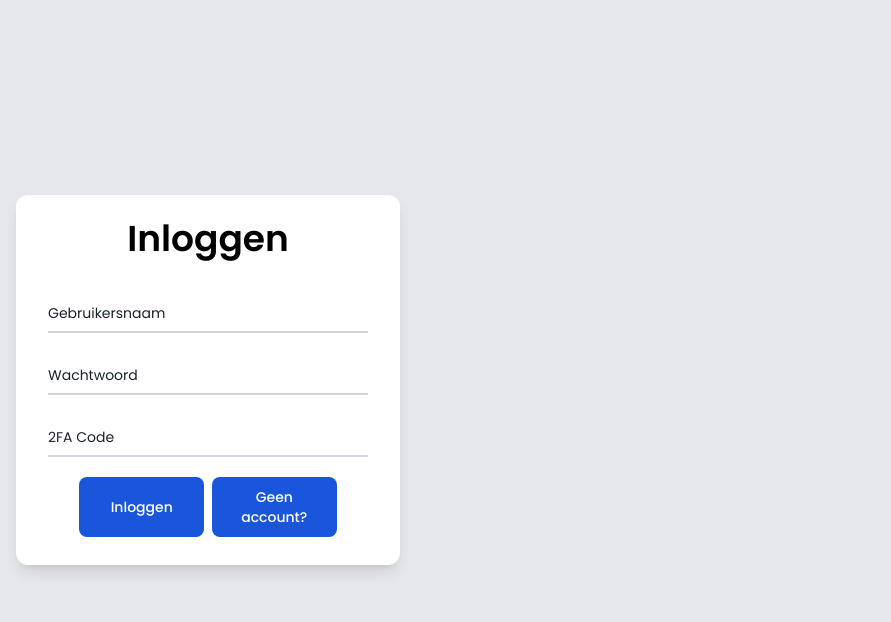
Test: Tests various pars of the register page › The page has a title, inputs and a button
This screenshot has width=891, height=622.
Expected: the heading "Inloggen" is shown, 127,213 -> 289,264
Step 1. Click the button with id "show-signin" → (275, 507), box 212,477 -> 337,537
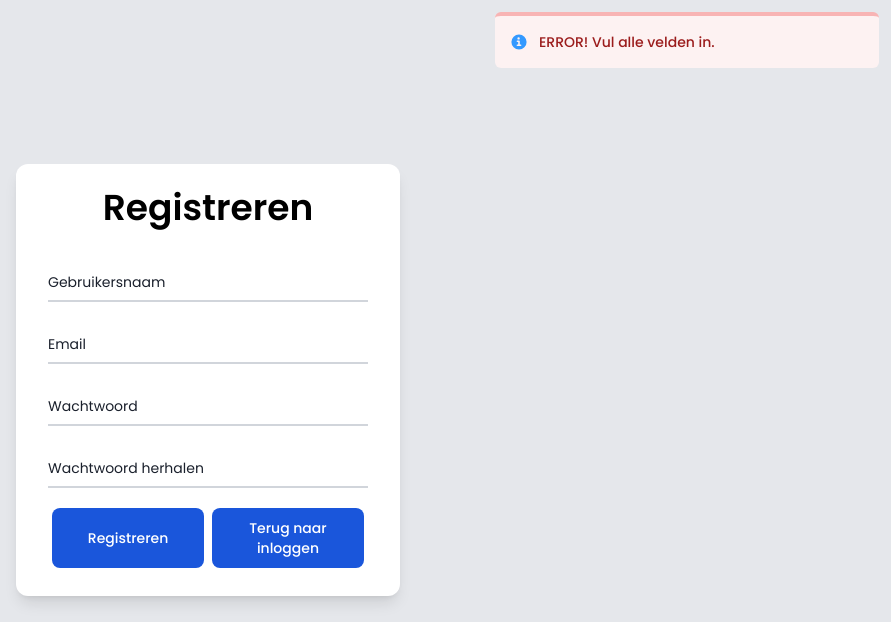
Now the heading "Registreren" is shown, box 103,182 -> 313,233
Now the field named "email" is shown, box 48,322 -> 368,364
Now the password field named "password_repeat" is shown, box 48,446 -> 368,488
